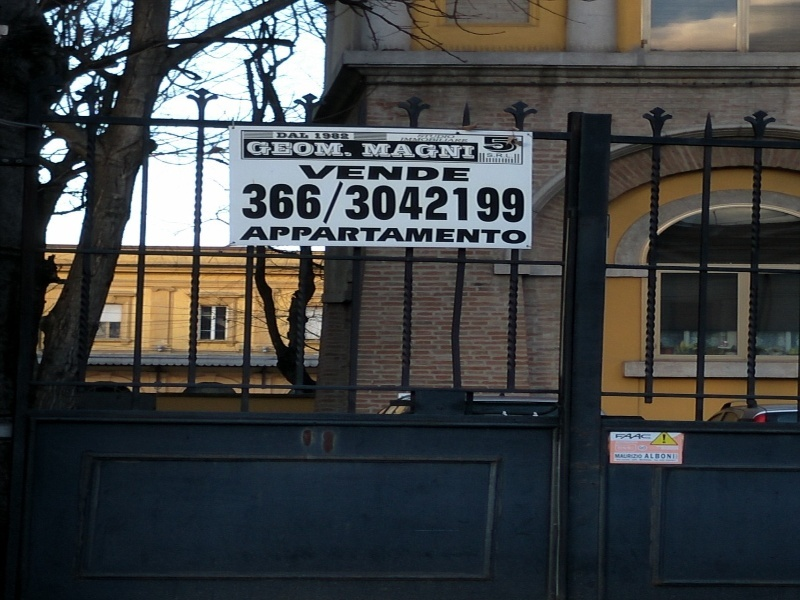text: (241, 178, 256, 227), (257, 178, 272, 227), (273, 178, 288, 227), (289, 178, 304, 227), (305, 178, 320, 227), (321, 178, 336, 227), (337, 178, 352, 227), (353, 178, 368, 227), (369, 178, 384, 227), (385, 178, 400, 227), (401, 178, 416, 227), (417, 178, 432, 227), (433, 178, 448, 227), (449, 178, 464, 227), (465, 178, 480, 227), (481, 178, 496, 227), (497, 178, 512, 227), (513, 178, 526, 227), (257, 225, 272, 247), (273, 225, 288, 247), (289, 225, 304, 247), (305, 225, 320, 247), (321, 225, 336, 247), (337, 225, 352, 247), (353, 225, 368, 247), (369, 225, 384, 247), (385, 225, 400, 247), (401, 225, 416, 247), (417, 225, 432, 247), (433, 225, 448, 247), (449, 225, 464, 247), (465, 225, 480, 247), (481, 225, 496, 247), (497, 225, 512, 247), (513, 225, 528, 247), (257, 140, 272, 158), (273, 140, 288, 158), (289, 140, 304, 158), (305, 140, 320, 158), (321, 140, 336, 158), (337, 140, 352, 158), (497, 136, 512, 154), (305, 165, 320, 183), (321, 165, 336, 183), (337, 165, 352, 183), (353, 165, 368, 183), (369, 165, 384, 183), (385, 165, 400, 183), (401, 165, 416, 183), (417, 165, 432, 183), (433, 165, 448, 183), (449, 165, 464, 183), (369, 143, 384, 160), (385, 143, 400, 160), (401, 143, 416, 160), (417, 143, 432, 160), (433, 143, 448, 160), (449, 143, 464, 160), (484, 136, 496, 154), (465, 143, 476, 160), (246, 140, 256, 158), (250, 225, 256, 247), (297, 165, 304, 183), (401, 136, 416, 144), (417, 136, 432, 144), (433, 136, 448, 144), (449, 136, 464, 144), (361, 143, 368, 160), (289, 132, 304, 139), (321, 133, 336, 140), (657, 453, 672, 460), (337, 133, 350, 140), (417, 134, 432, 140), (433, 134, 448, 140), (513, 136, 518, 154), (497, 153, 512, 159), (465, 165, 470, 183), (625, 434, 640, 440), (663, 434, 672, 444), (276, 132, 288, 139), (625, 454, 640, 459), (646, 453, 656, 460), (641, 434, 652, 440), (486, 153, 496, 159), (353, 140, 356, 158), (616, 434, 624, 440), (615, 454, 624, 459), (449, 134, 456, 140), (673, 453, 679, 460), (305, 132, 310, 139), (315, 133, 320, 140), (465, 136, 469, 144), (529, 225, 530, 247), (641, 454, 643, 459), (513, 153, 514, 159)
